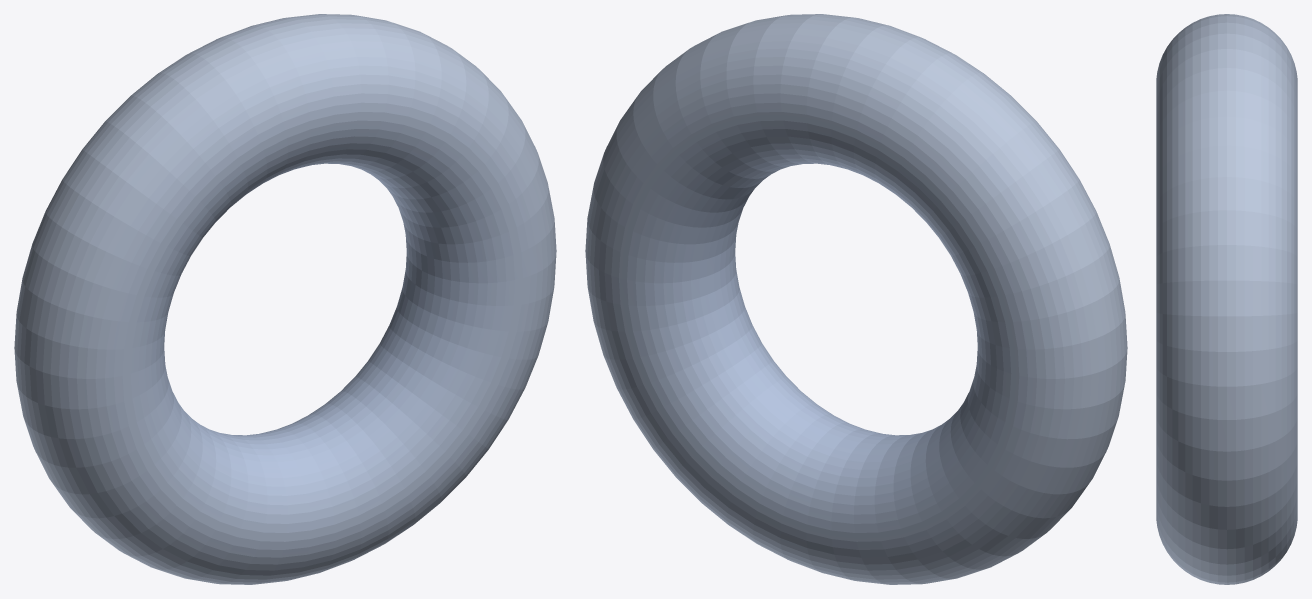
3 renders of one model, left to right at view 1: azimuth 30°, elevation 25°; view 2: azimuth 150°, elevation 25°; view 3: azimuth 270°, elevation 25°, orthographic. The views are drawn at different scales.
Visible parts, largest first — view 1: world; view 2: world; view 3: world.
Part boxes in pixels (x1=…): world: x1=14, y1=14, x2=556, y2=584; world: x1=585, y1=14, x2=1127, y2=584; world: x1=1156, y1=14, x2=1297, y2=584.
Bounding box in the file's own units: 23.07 × 23.02 × 5.72.
